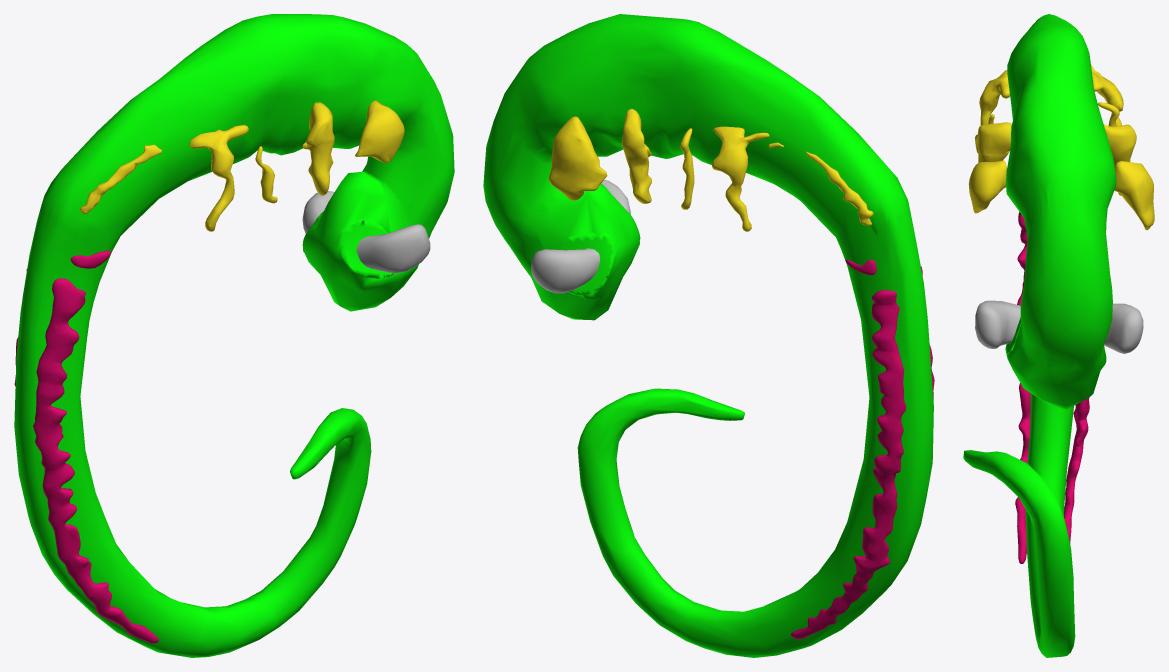
The model's file is NeuralTube_Puzzle.fbx.
3 views of the same model, side by side, from view 1: azimuth 30°, elevation 25°; view 2: azimuth 150°, elevation 25°; view 3: azimuth 270°, elevation 25° (orthographic). The views are drawn at different scales.
Parts seen in each view (by area): view 1: NeuralTube; view 2: NeuralTube; view 3: NeuralTube.
Boxes of the visible parts, x1,y1,x2,y2 form: NeuralTube: (14, 14, 454, 657); NeuralTube: (483, 14, 934, 657); NeuralTube: (963, 14, 1154, 657).
Bounding box in the file's own units: 29.99 × 40.99 × 11.26.
